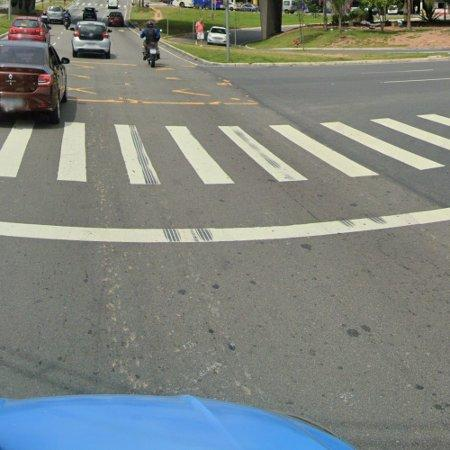crosswalks: (1, 107, 450, 187)
